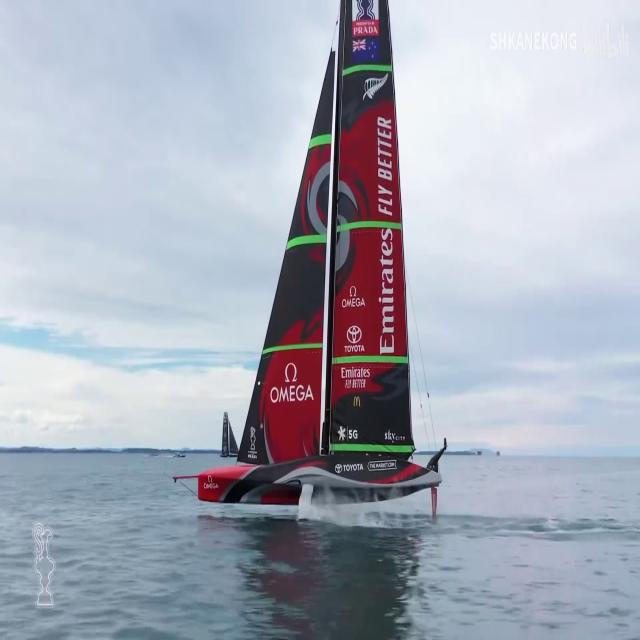sailboat: (167, 0, 448, 520)
